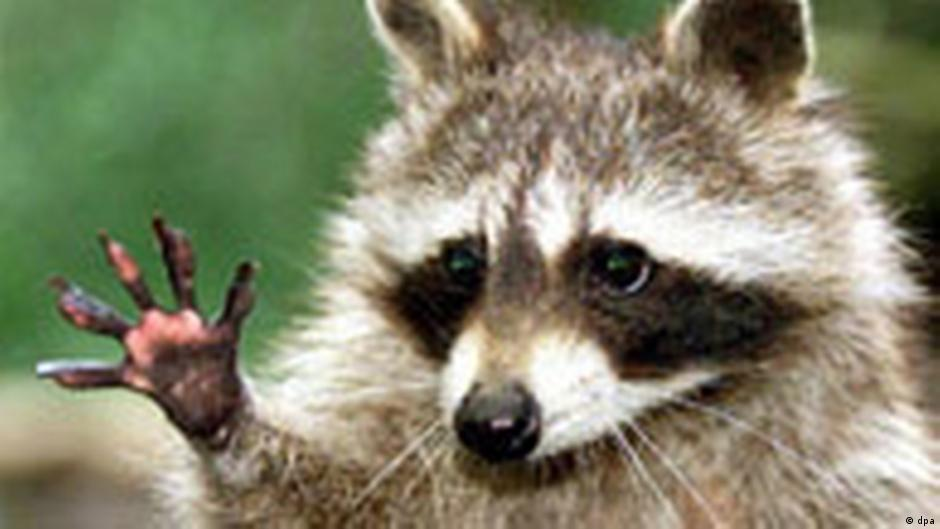raccoon: (36, 0, 940, 529)
